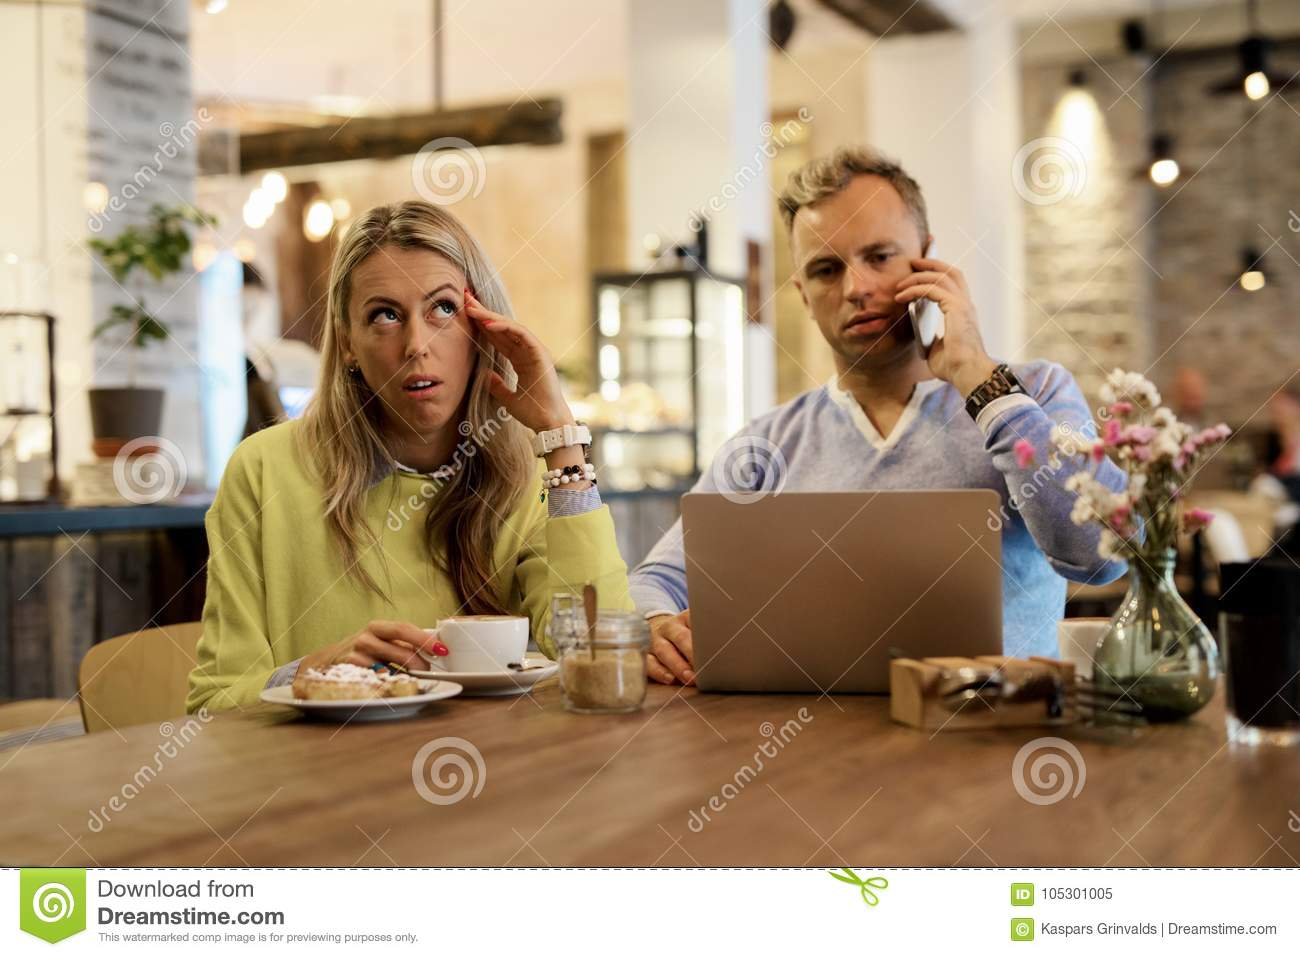phone: (910, 243, 943, 358)
talk: (808, 230, 979, 379)
